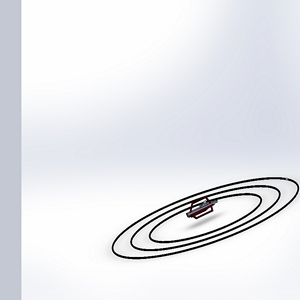circle: (102, 167, 300, 265)
submarine: (179, 194, 225, 227)
